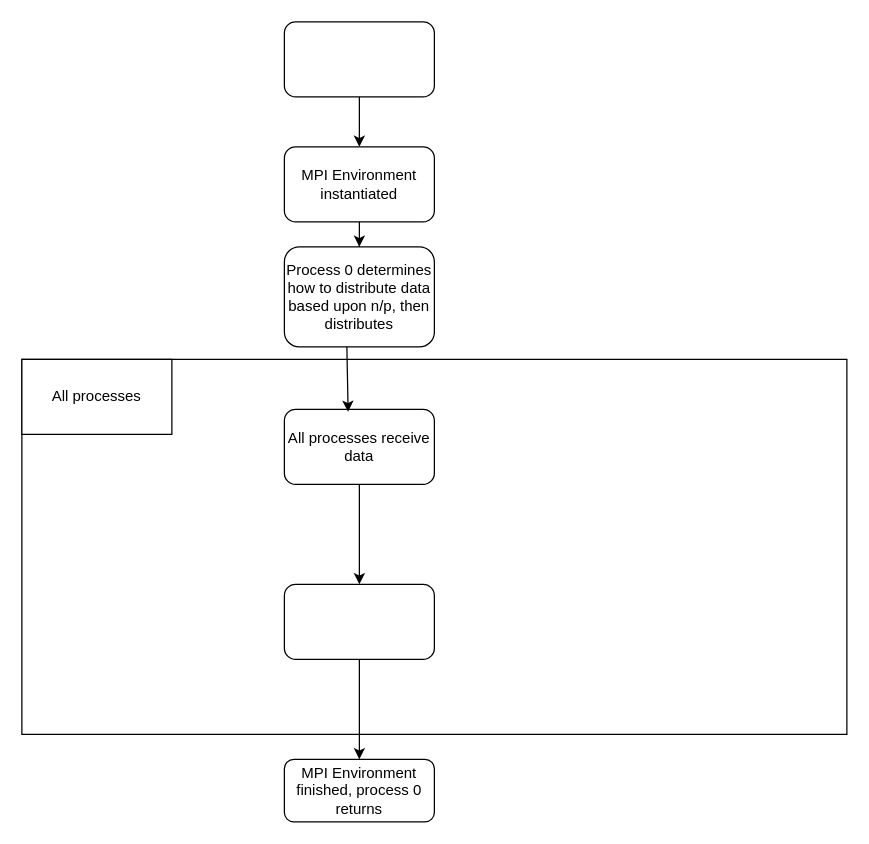
The diagram is 869 pixels wide and 844 high, and some of its shapes have lost their labels. Each missing label, with the centre of its shape:
"All processes output received data and their rank" belongs at [358,621].
"Process 0 reads in matrix and vector input files" belongs at [358,59].
